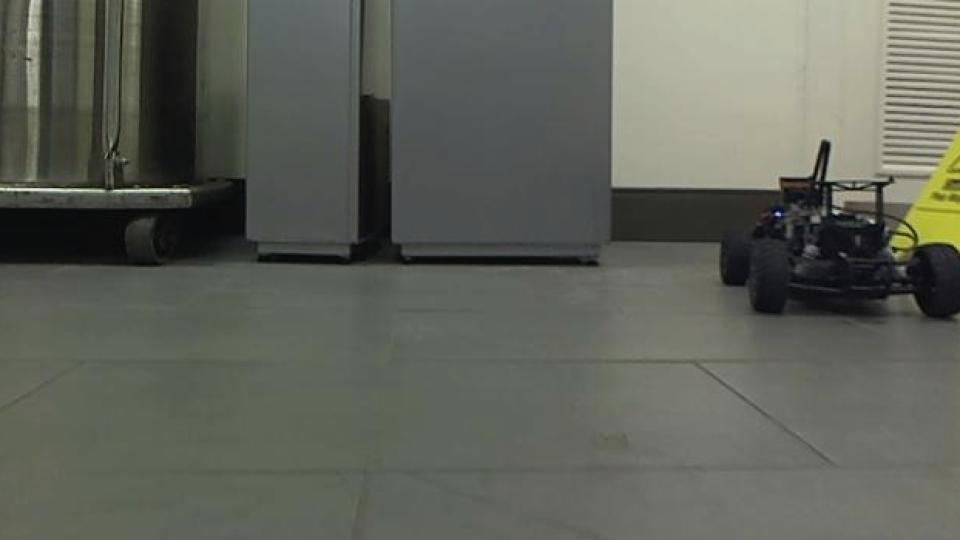car: (716, 136, 960, 321)
